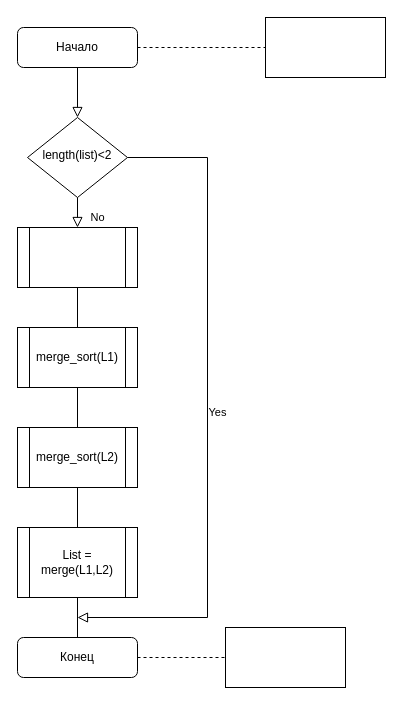
Image size: 403x705. Some labels were removed from this diagram. Here are the shapes that lost their labels. From the top down, the centre of each, then its label:
(x=325, y=47): merge_sort(List)
(x=77, y=257): split (List, L1,L2)
(x=285, y=657): вернуть List
